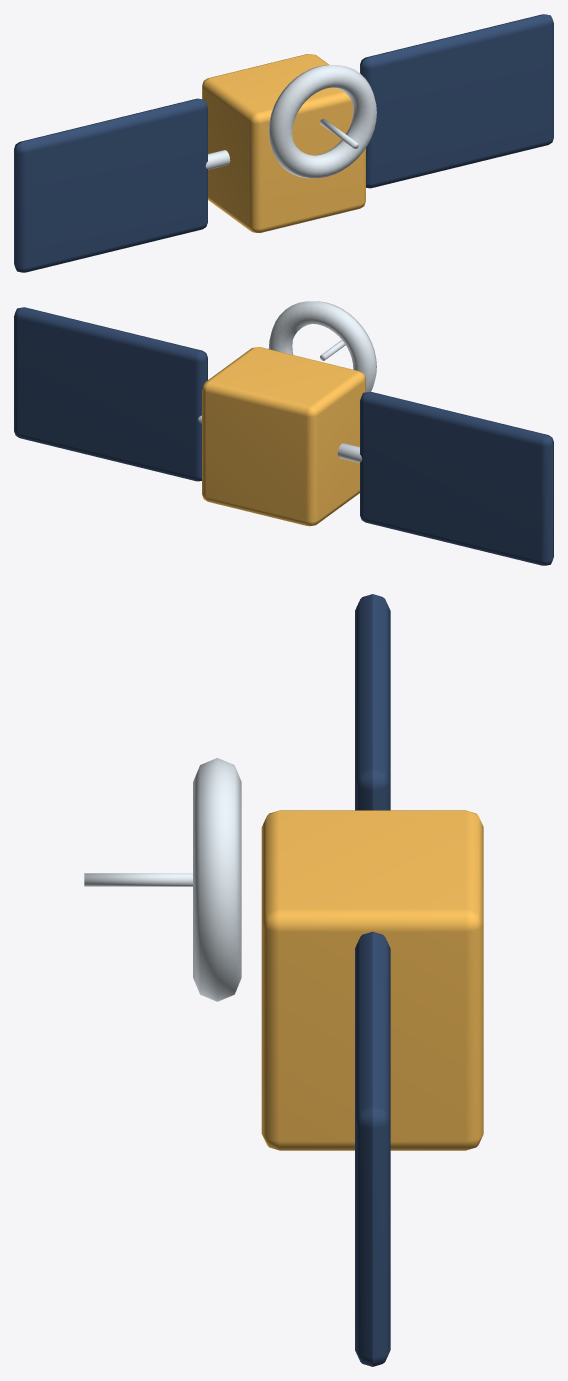
The model's file is communications-satellite-lite.glb.
3 renders of one model, top to bottom at view 1: azimuth 30°, elevation 25°; view 2: azimuth 150°, elevation 25°; view 3: azimuth 270°, elevation 25°, orthographic. The views are drawn at different scales.
Visible parts, largest first — view 1: Payload; view 2: Payload; view 3: Payload.
Part boxes in pixels (<box>): Payload: <box>14,14,553,272</box>; Payload: <box>14,301,553,565</box>; Payload: <box>84,594,483,1366</box>.
Size of the model in its own units: 2.8 by 0.85 by 0.9.
